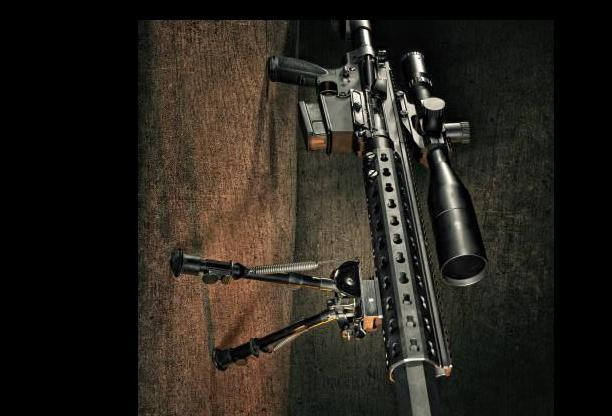larga: (170, 18, 490, 416)
